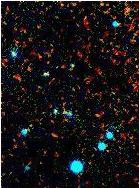star: (115, 0, 139, 20)
